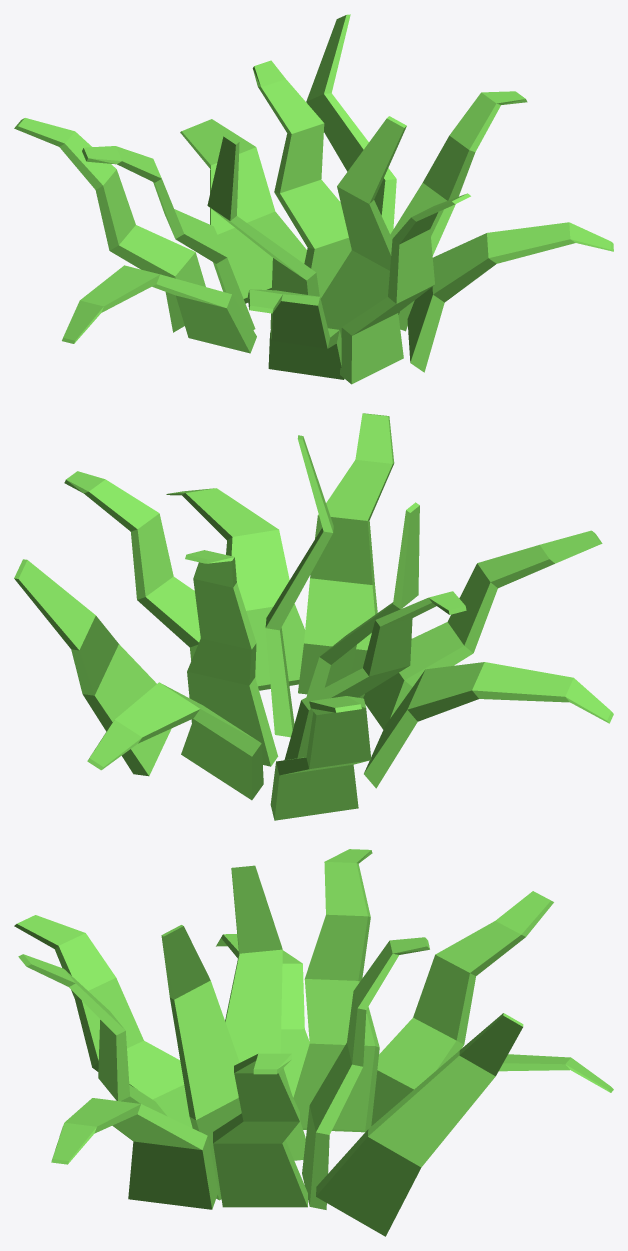
The model's file is Sc_pastoHigh_1.fbx.
3 renders of one model, top to bottom at view 1: azimuth 30°, elevation 25°; view 2: azimuth 150°, elevation 25°; view 3: azimuth 270°, elevation 25°, orthographic. The views are drawn at different scales.
Visible parts, largest first — view 1: Cube_004; view 2: Cube_004; view 3: Cube_004.
Part boxes in pixels (box(x1,y1,x2,y2)): Cube_004: box(14, 14, 613, 384); Cube_004: box(14, 413, 613, 820); Cube_004: box(14, 849, 613, 1236).
Bounding box in the file's own units: 221 × 111 × 217.
